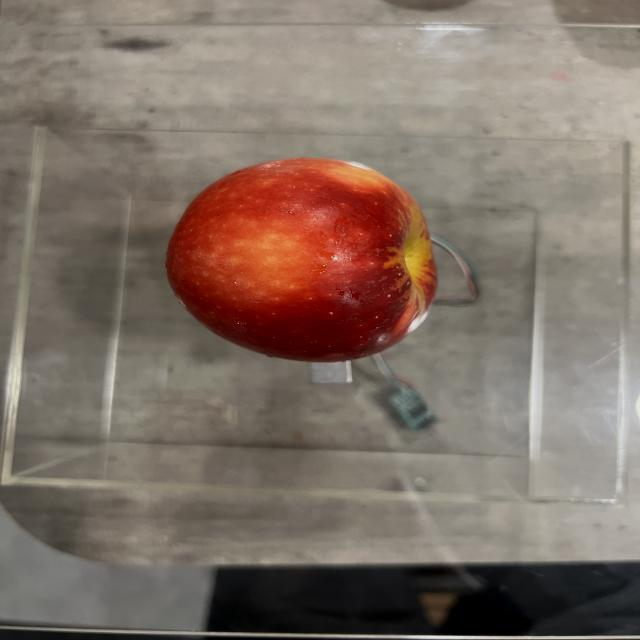red apple: (168, 156, 433, 360)
